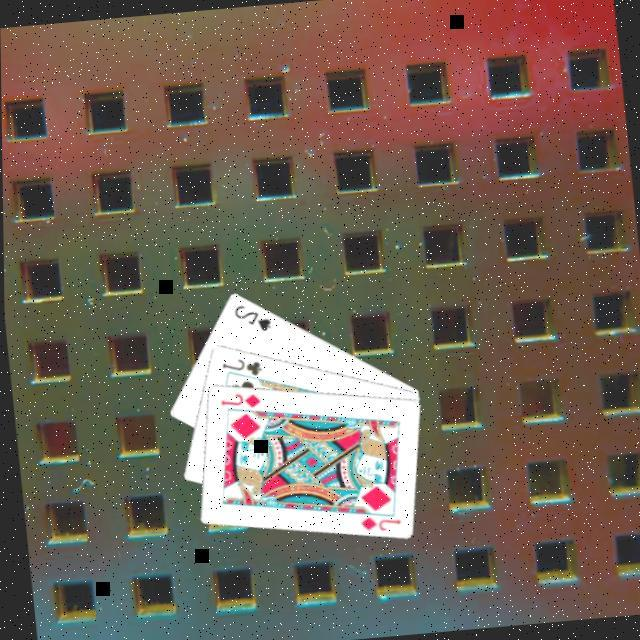2S: (229, 296, 274, 334)
JC: (216, 351, 264, 379)
JD: (216, 384, 264, 410), (354, 507, 402, 533)
